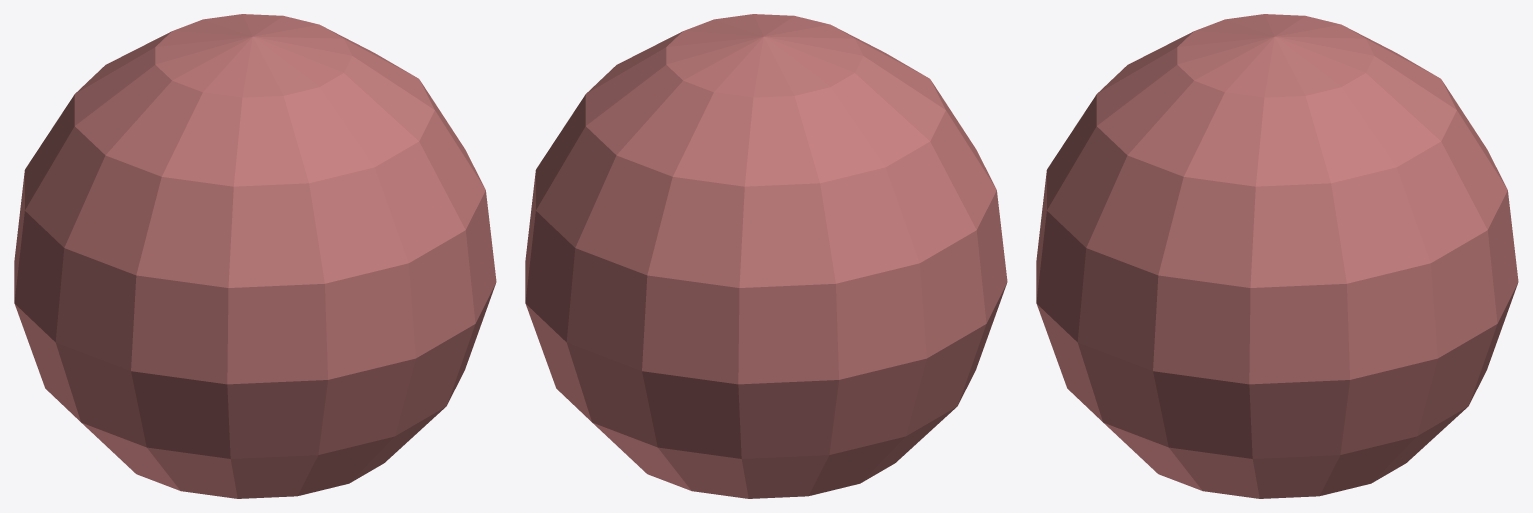
File: ball.glb
3 renders of one model, left to right at view 1: azimuth 30°, elevation 25°; view 2: azimuth 150°, elevation 25°; view 3: azimuth 270°, elevation 25°, orthographic.
Parts seen in each view (by area): view 1: x3ds_Sphere01; view 2: x3ds_Sphere01; view 3: x3ds_Sphere01.
Boxes of the visible parts, x1=… form: x3ds_Sphere01: x1=14, y1=14, x2=496, y2=498; x3ds_Sphere01: x1=525, y1=14, x2=1007, y2=498; x3ds_Sphere01: x1=1036, y1=14, x2=1518, y2=498.
Size of the model in its own units: 46.73 by 47.24 by 46.47.
